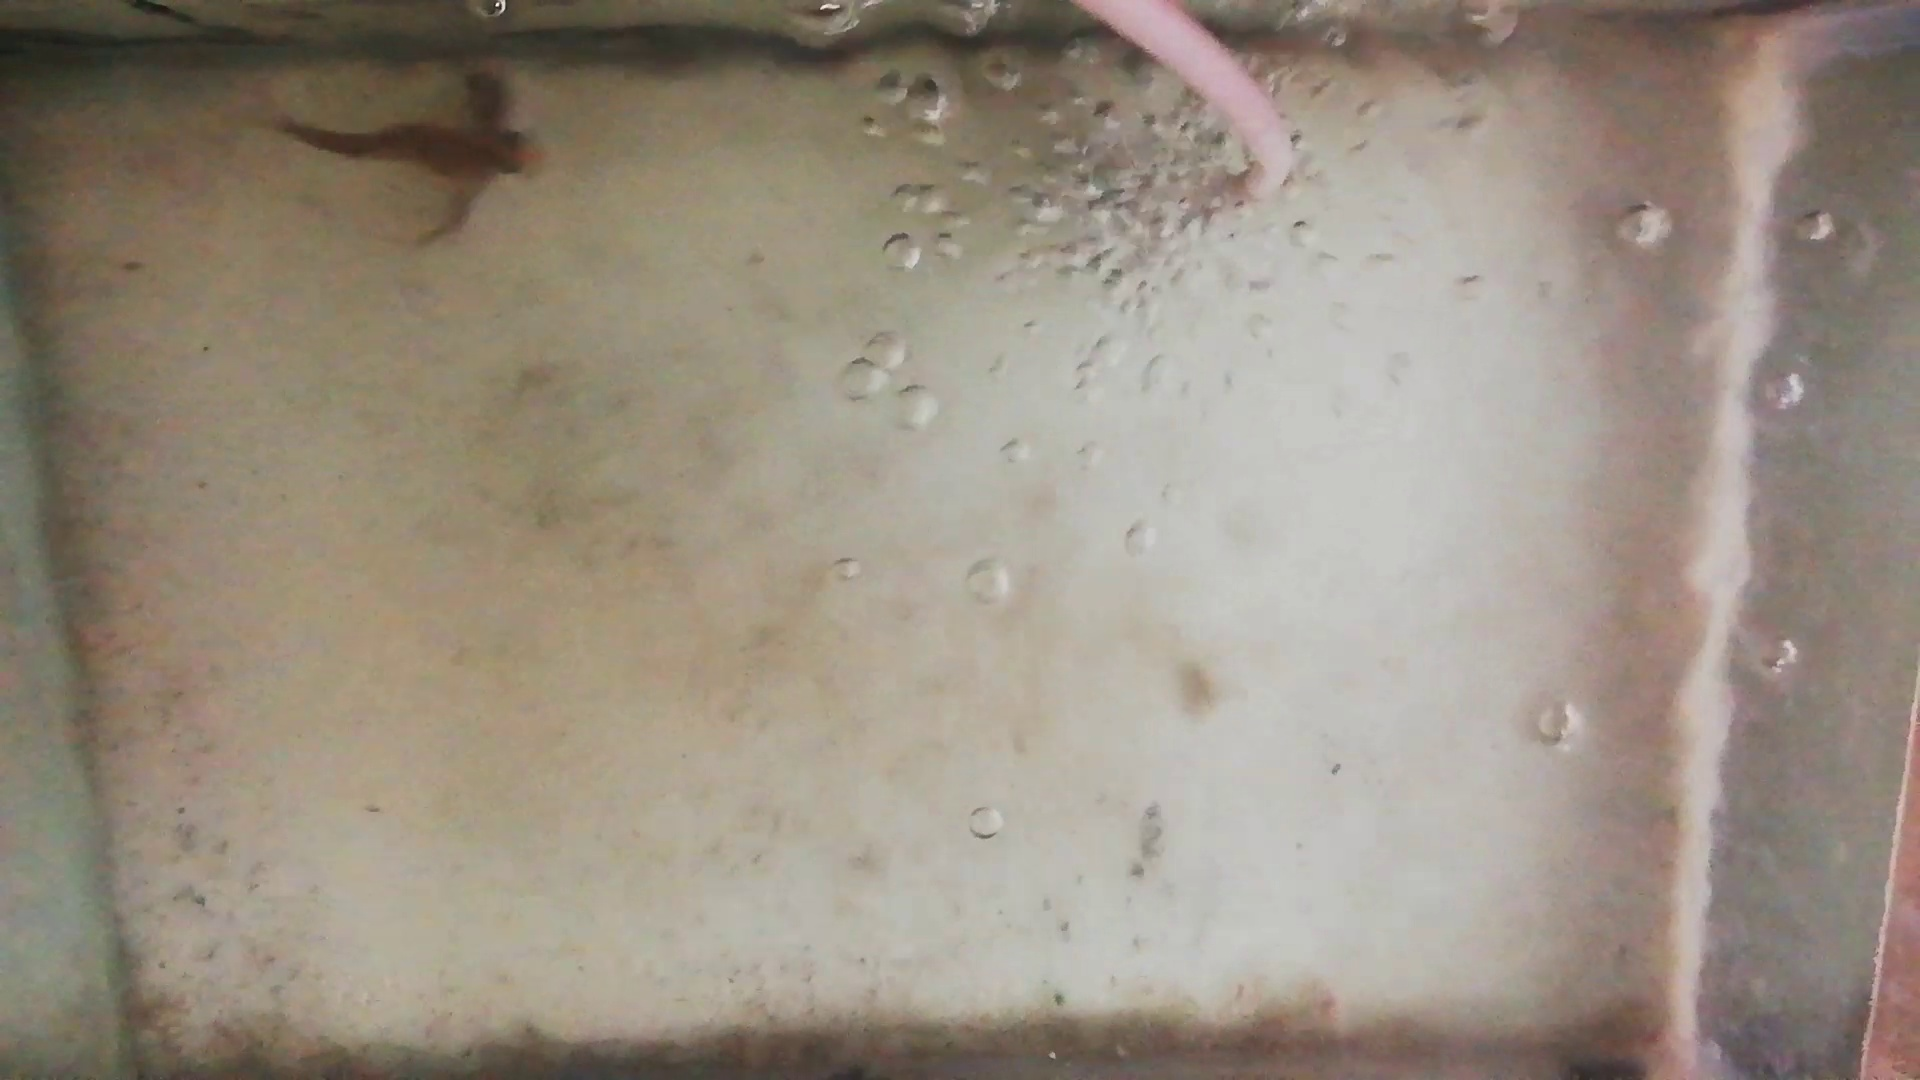fish: (281, 123, 538, 179), (433, 73, 513, 245)
